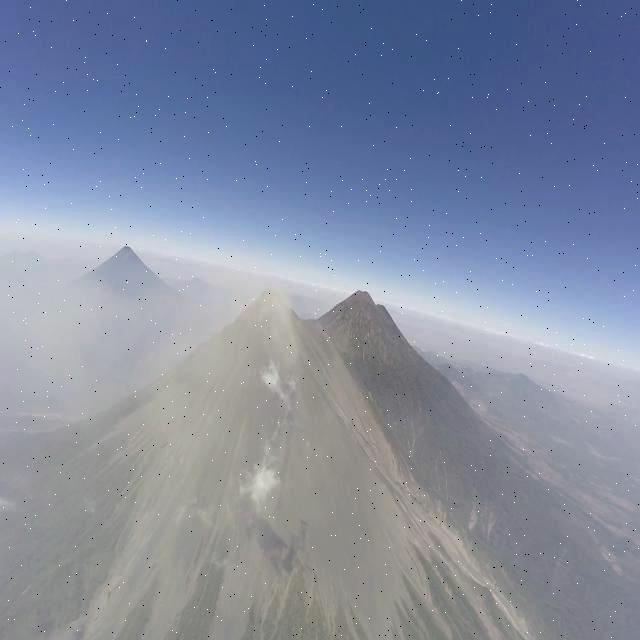Summit: (217, 288, 302, 337)
